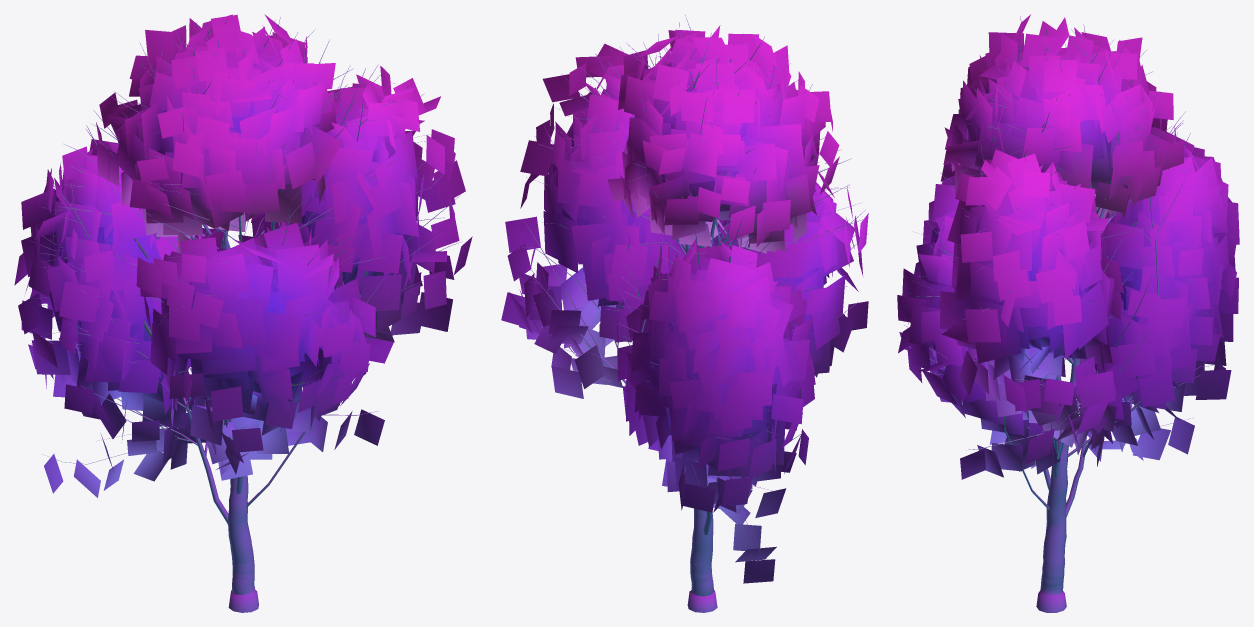
The model's file is tree_birch_s5_a30.fbx.
3 views of the same model, side by side, from view 1: azimuth 30°, elevation 25°; view 2: azimuth 150°, elevation 25°; view 3: azimuth 270°, elevation 25° (orthographic). The views are drawn at different scales.
Parts seen in each view (by area): view 1: tree_birch_s5_a30_leaves, tree_birch_s5_a30_branches; view 2: tree_birch_s5_a30_leaves, tree_birch_s5_a30_branches; view 3: tree_birch_s5_a30_leaves, tree_birch_s5_a30_branches.
Boxes of the visible parts, x1,y1,x2,y2 form: tree_birch_s5_a30_leaves: (14,14,472,497); tree_birch_s5_a30_branches: (30,17,462,612); tree_birch_s5_a30_leaves: (501,25,868,583); tree_birch_s5_a30_branches: (519,15,867,612); tree_birch_s5_a30_leaves: (897,14,1239,479); tree_birch_s5_a30_branches: (904,16,1222,612).
Size of the model in its own units: 7.08 by 10.53 by 5.66.
